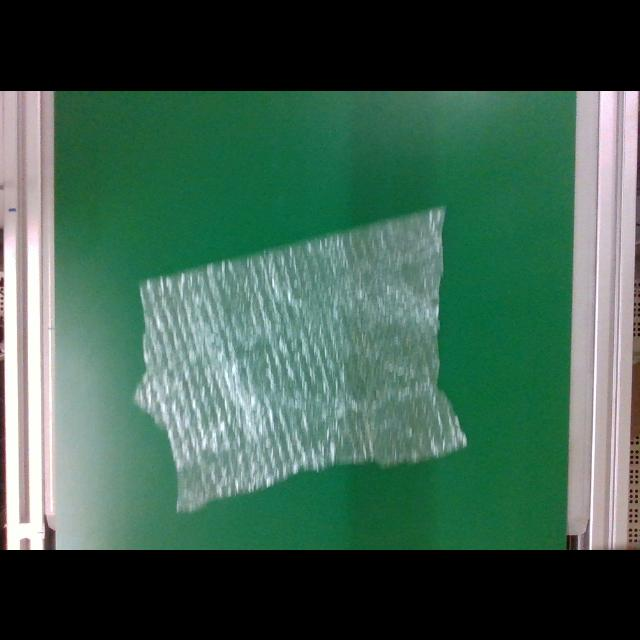scrap_plastic: (134, 203, 468, 514)
